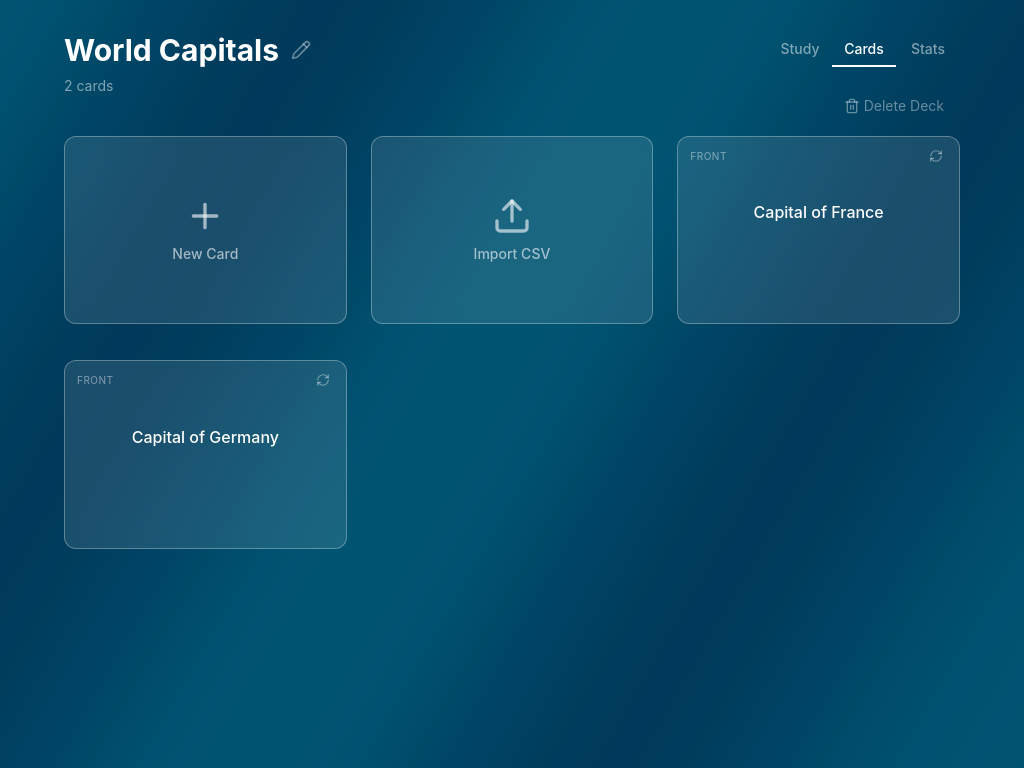
Scenario: DeckCardsPage › makes deck title editable on click
The image size is (1024, 768).
Click the heading "World Capitals" at point(172, 50), box [64,32,279,68]
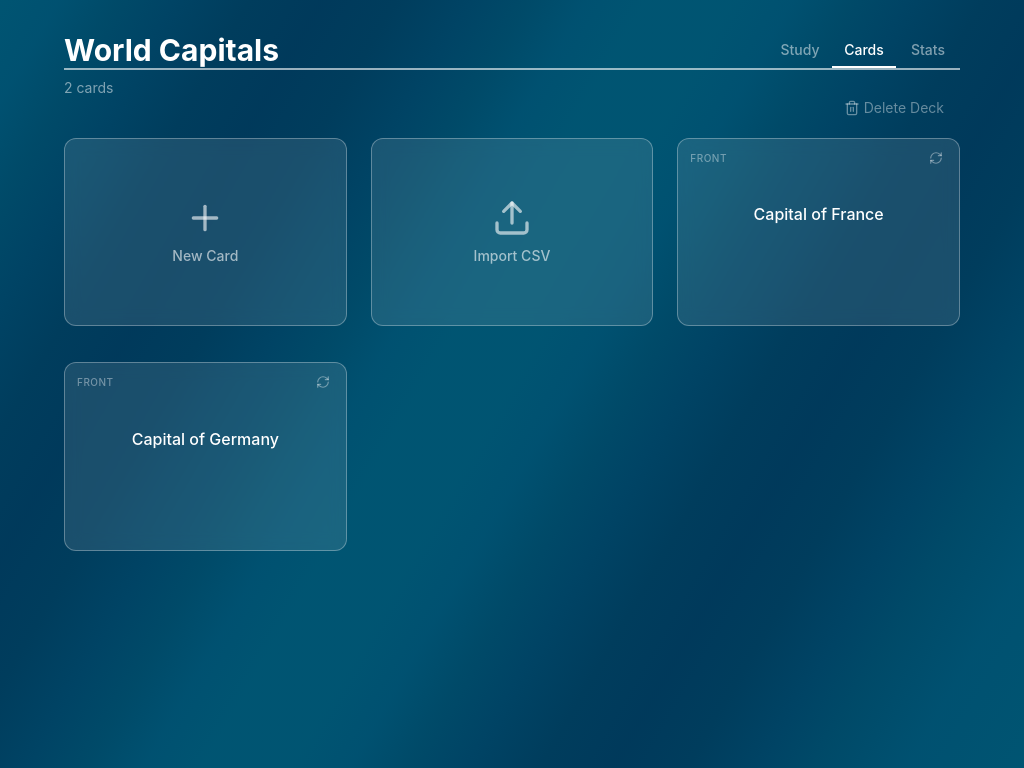
Now the field showing "World Capitals" is shown, box [64,32,960,70]
